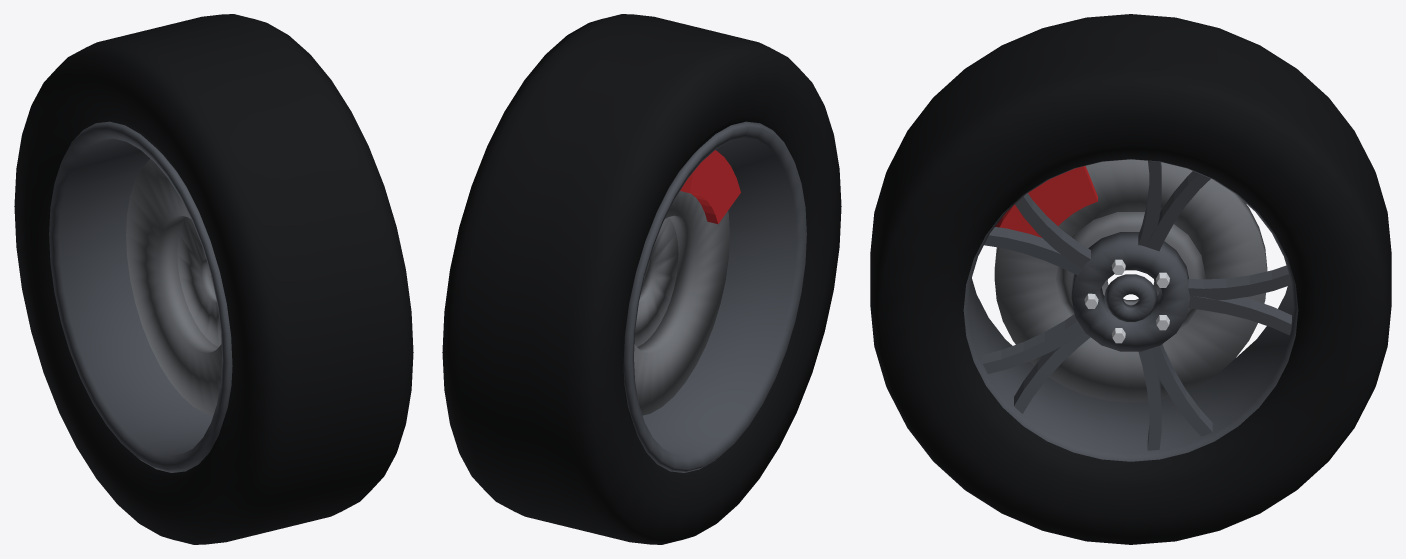
File: w02_star5_17.glb
3 views of the same model, side by side, from view 1: azimuth 30°, elevation 25°; view 2: azimuth 150°, elevation 25°; view 3: azimuth 270°, elevation 25° (orthographic).
Parts seen in each view (by area): view 1: wheel, brake; view 2: wheel, brake; view 3: wheel, brake.
Boxes of the visible parts, x1,y1,x2,y2 form: wheel: (14, 14, 413, 544); brake: (126, 159, 221, 415); wheel: (442, 14, 841, 544); brake: (634, 150, 740, 415); wheel: (870, 14, 1391, 544); brake: (994, 159, 1267, 402).
Size of what is drawn, in the model's own units: 0.235 by 0.66 by 0.66.
